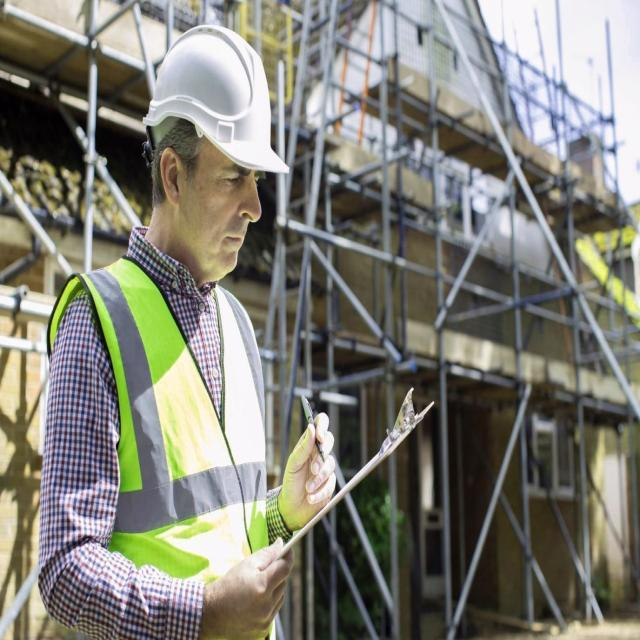face_nomask: (180, 150, 268, 278)
hand_noglove: (190, 538, 304, 631), (272, 401, 348, 528)
head_helmet: (140, 22, 291, 176)
person: (53, 27, 351, 640)
vest: (73, 261, 292, 583)
